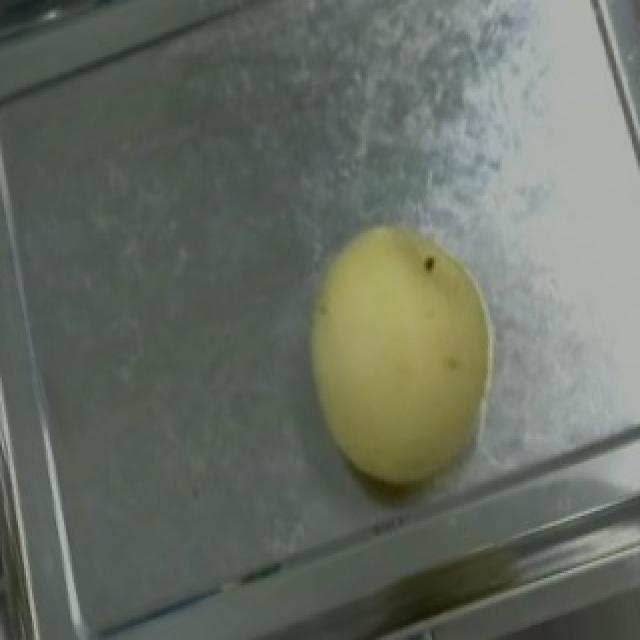Fruit: (264, 188, 538, 518)
